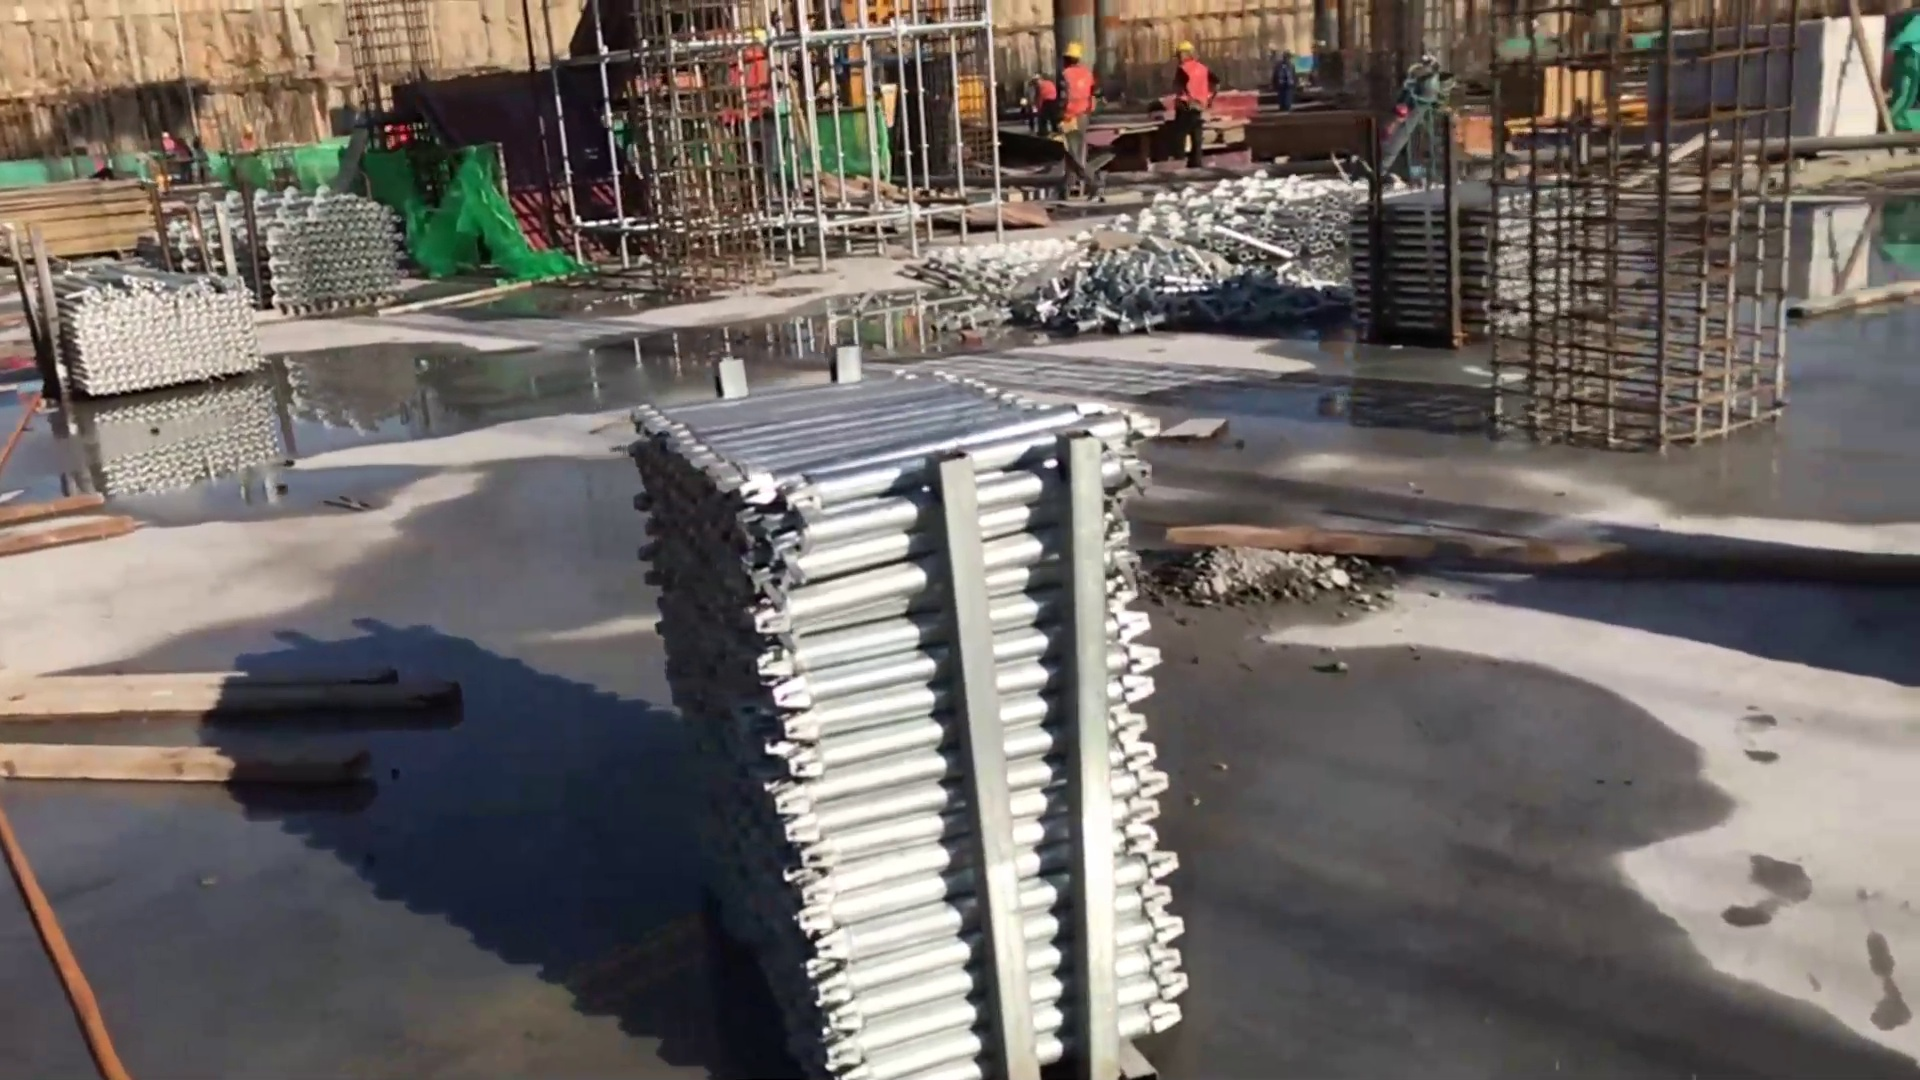board: (1, 177, 158, 251)
helmet: (1060, 42, 1084, 59), (1179, 40, 1196, 52)
person: (1043, 39, 1096, 176), (1170, 37, 1219, 168)
scaffold: (636, 379, 1188, 1080), (73, 266, 262, 401), (250, 196, 404, 310), (1231, 197, 1362, 320)
vest: (1059, 69, 1096, 122), (1181, 58, 1210, 111)
